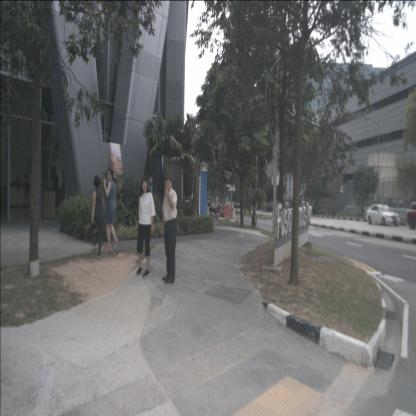barrier: (220, 207, 234, 221)
